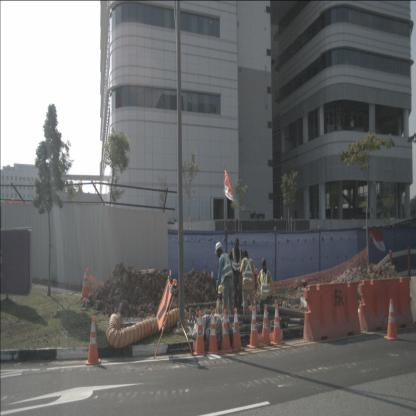movable_object-barrier: (303, 281, 361, 342), (357, 276, 414, 332)
movable_object-trafficcone: (84, 315, 101, 366), (246, 305, 264, 349), (383, 298, 401, 341), (258, 304, 274, 347), (268, 304, 284, 346), (192, 310, 206, 356), (206, 309, 220, 355), (219, 308, 233, 354), (230, 307, 244, 352), (79, 267, 91, 300)
